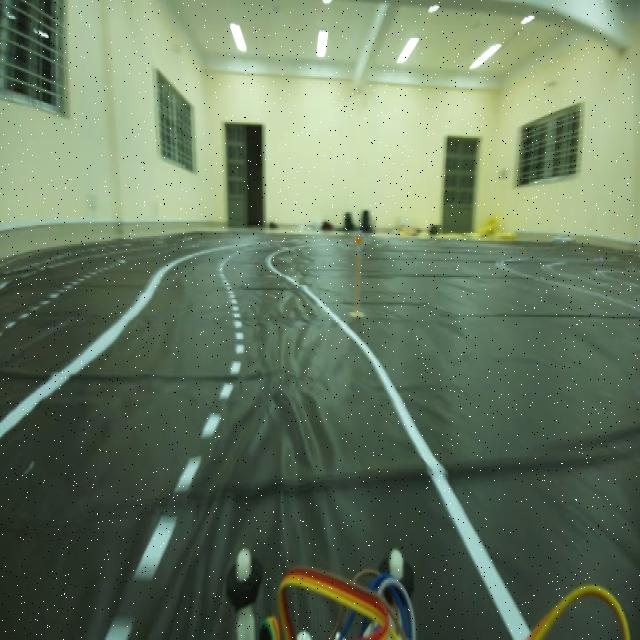priority: (352, 226, 366, 254)
